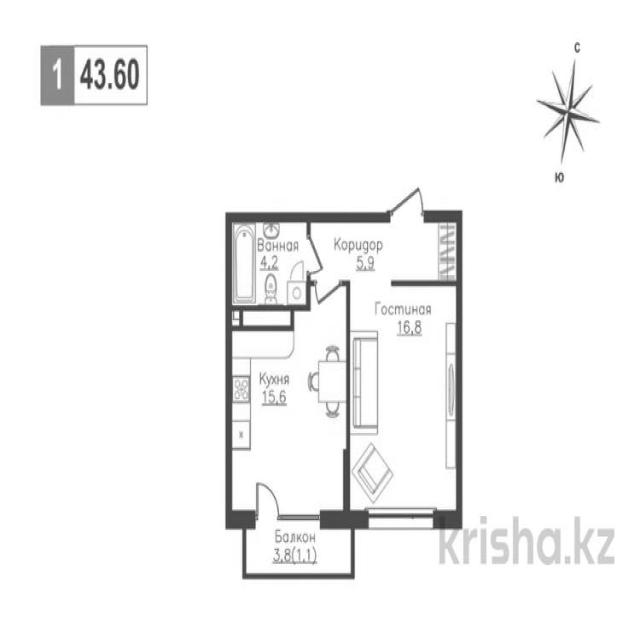balcony: (243, 521, 355, 585)
bathroom: (229, 216, 309, 304)
hallway: (312, 215, 461, 282)
kitchen: (227, 306, 346, 518)
living_room: (348, 286, 458, 521)
